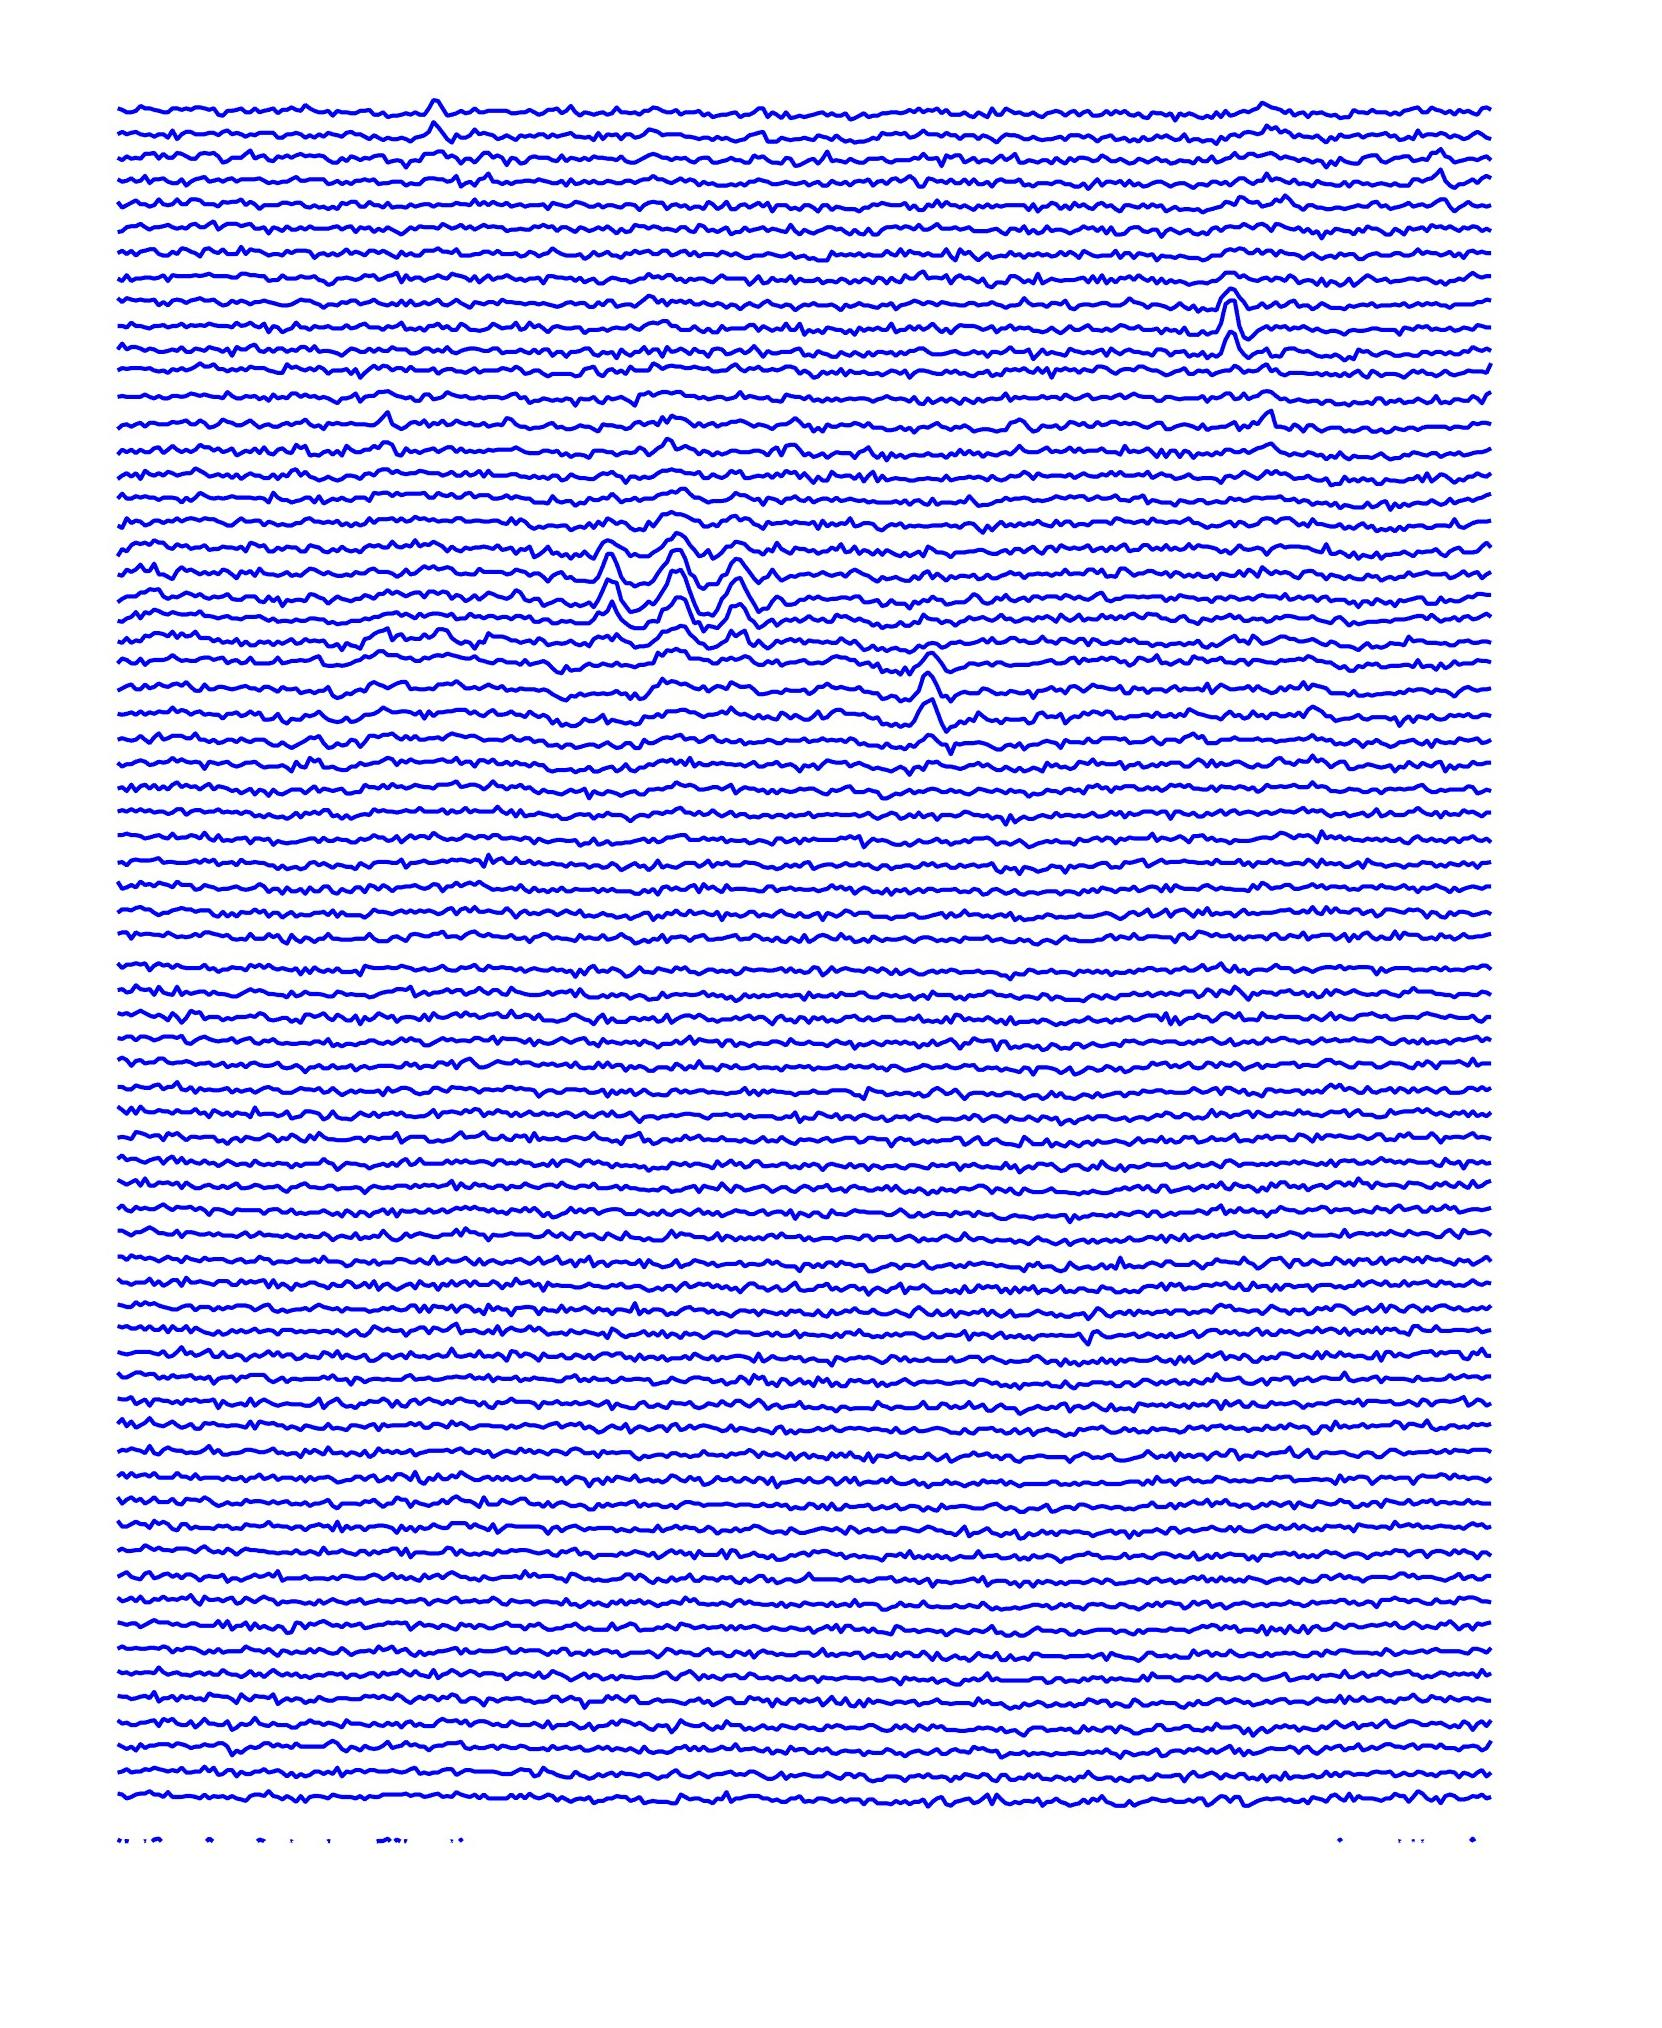defect: (871, 615, 993, 761), (1189, 248, 1276, 386), (566, 522, 637, 657), (655, 514, 702, 660), (712, 546, 764, 669), (414, 79, 456, 158)
